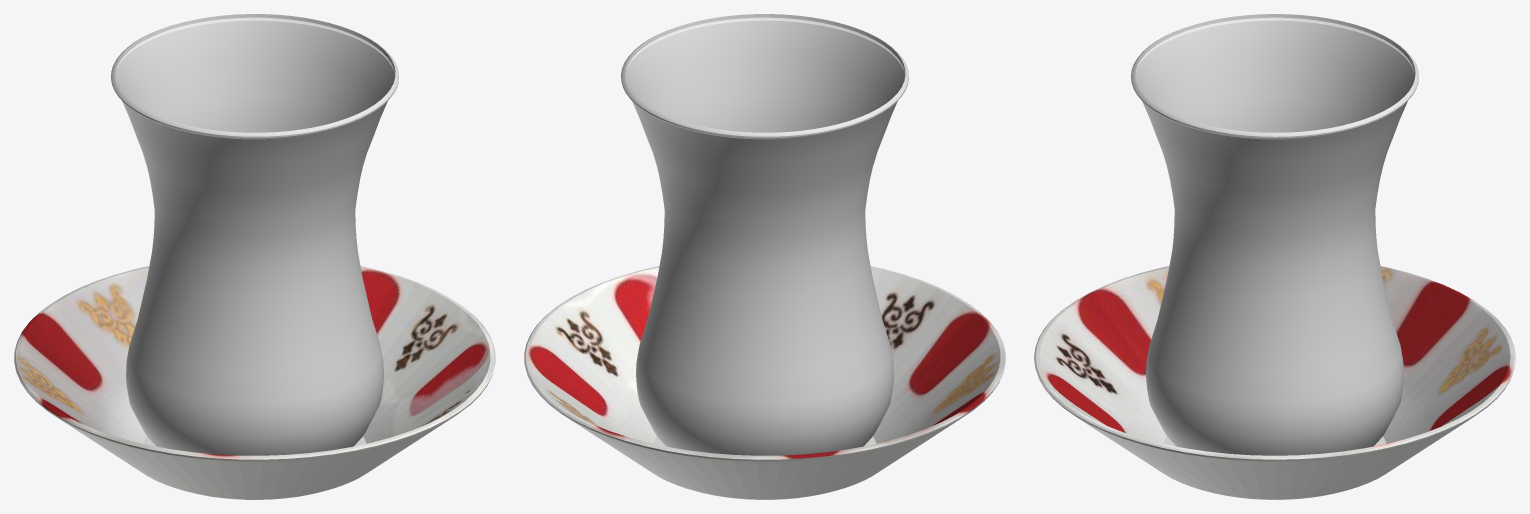
Rendered from Tea.fbx.
The picture shows the model from 3 angles, left to right: view 1: azimuth 30°, elevation 25°; view 2: azimuth 150°, elevation 25°; view 3: azimuth 270°, elevation 25°; orthographic projection.
Parts seen in each view (by area): view 1: Cylinder.001, Cylinder.002; view 2: Cylinder.001, Cylinder.002; view 3: Cylinder.001, Cylinder.002.
Part boxes in pixels (left/top/right/bottom): Cylinder.001: left=111, top=14, right=398, bottom=455; Cylinder.002: left=14, top=266, right=495, bottom=499; Cylinder.001: left=621, top=14, right=908, bottom=455; Cylinder.002: left=524, top=266, right=1005, bottom=499; Cylinder.001: left=1131, top=14, right=1418, bottom=455; Cylinder.002: left=1034, top=266, right=1515, bottom=499.
Bounding box in the file's own units: 535 × 465 × 535.
